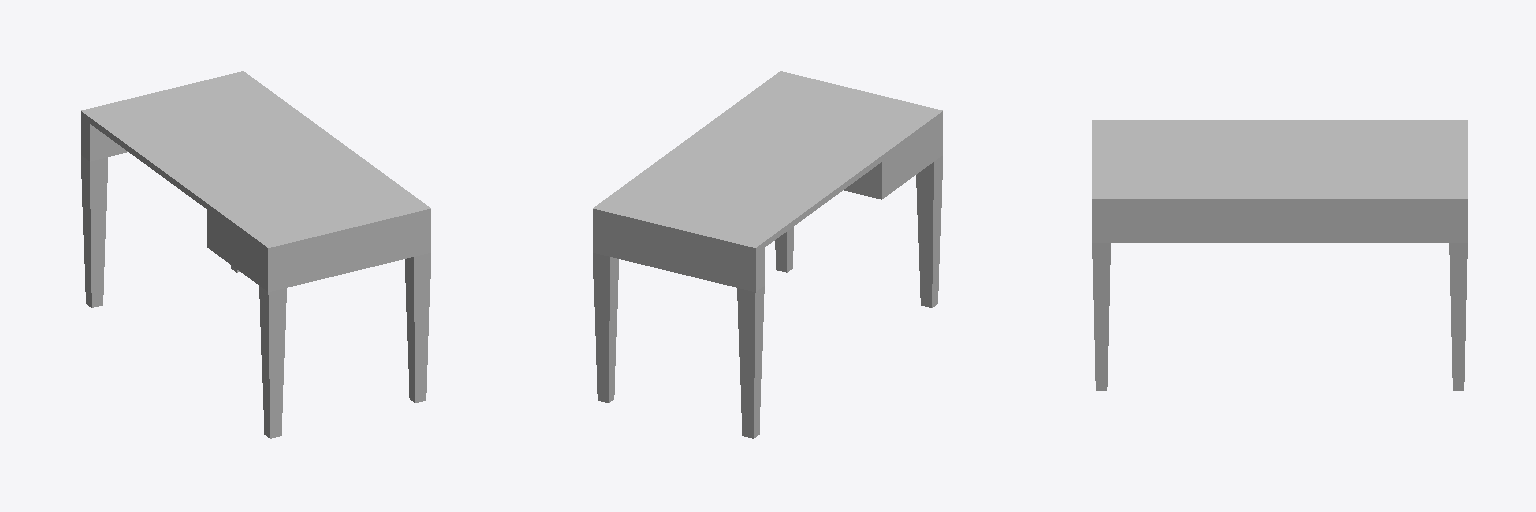
The model's file is table.obj.
3 renders of one model, left to right at view 1: azimuth 30°, elevation 25°; view 2: azimuth 150°, elevation 25°; view 3: azimuth 270°, elevation 25°, orthographic.
Visible parts, largest first — view 1: desk_low_meshId0_name; view 2: desk_low_meshId0_name; view 3: desk_low_meshId0_name.
Part boxes in pixels (bbox=[...]): desk_low_meshId0_name: bbox=[81, 71, 430, 438]; desk_low_meshId0_name: bbox=[593, 71, 942, 438]; desk_low_meshId0_name: bbox=[1092, 120, 1467, 390].
Bounding box in the file's own units: 5.01 × 5.66 × 10.